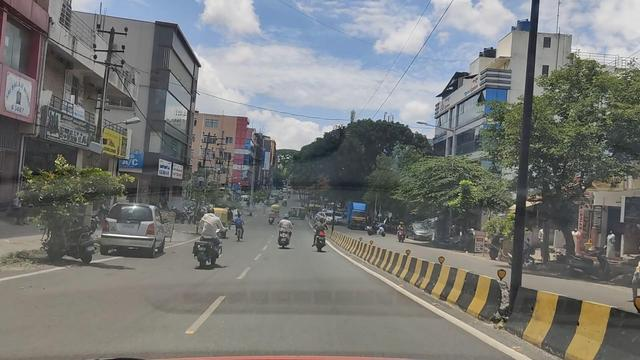LMV: (106, 194, 170, 263), (42, 209, 101, 265), (184, 207, 231, 272), (266, 218, 300, 250), (313, 216, 332, 253)
